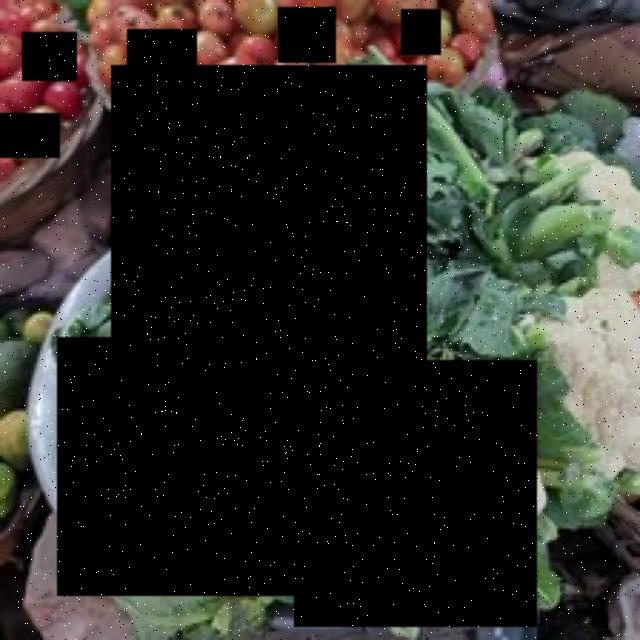Cauliflower: (111, 65, 427, 408), (295, 360, 538, 627), (58, 338, 298, 597)
Tomato: (279, 8, 337, 64), (128, 29, 198, 71), (22, 33, 78, 82), (0, 113, 60, 158), (402, 9, 442, 55)
